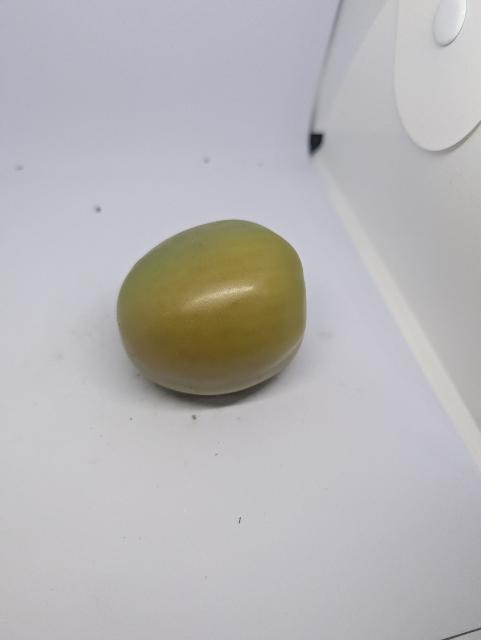breaker: (115, 214, 311, 403)
